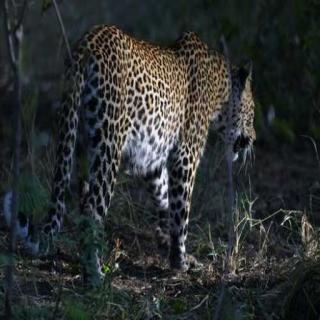Leopard: (6, 22, 285, 292)
